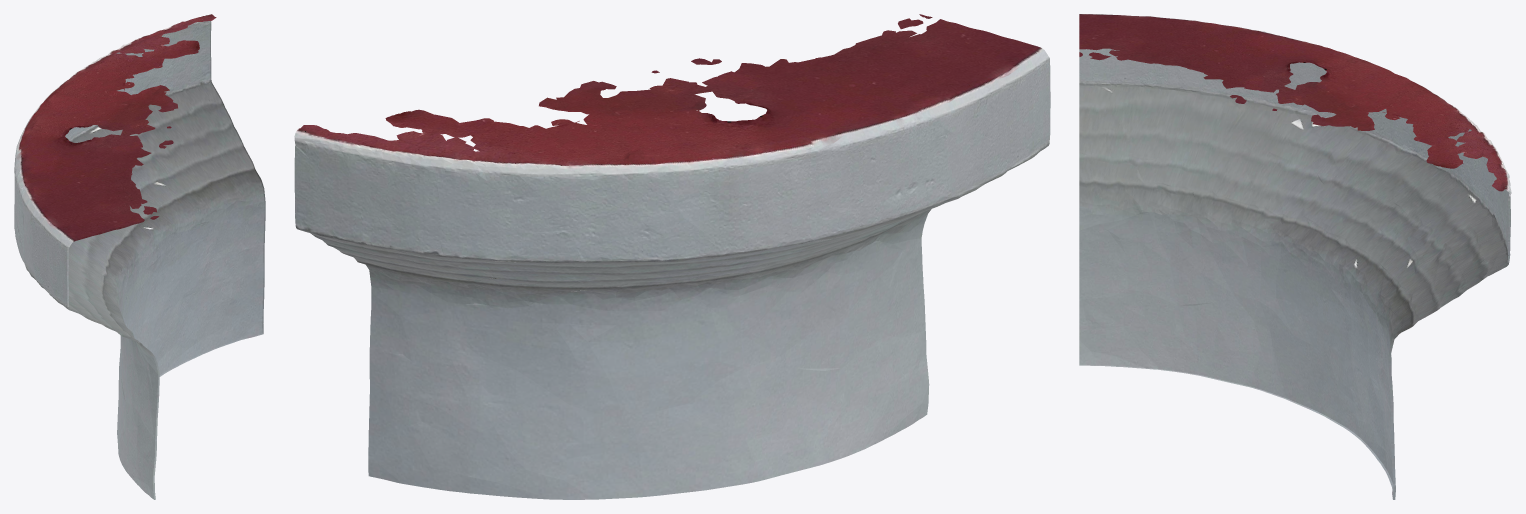
3 renders of one model, left to right at view 1: azimuth 30°, elevation 25°; view 2: azimuth 150°, elevation 25°; view 3: azimuth 270°, elevation 25°, orthographic. The views are drawn at different scales.
Visible parts, largest first — view 1: node_35; view 2: node_35; view 3: node_35.
Boxes of the visible parts, bbox=[...] form: node_35: bbox=[14, 14, 265, 499]; node_35: bbox=[294, 14, 1050, 499]; node_35: bbox=[1079, 14, 1511, 499].
Bounding box in the file's own units: 2.36 × 1.87 × 2.36.
Materials: 1 (1 with a texture image).
